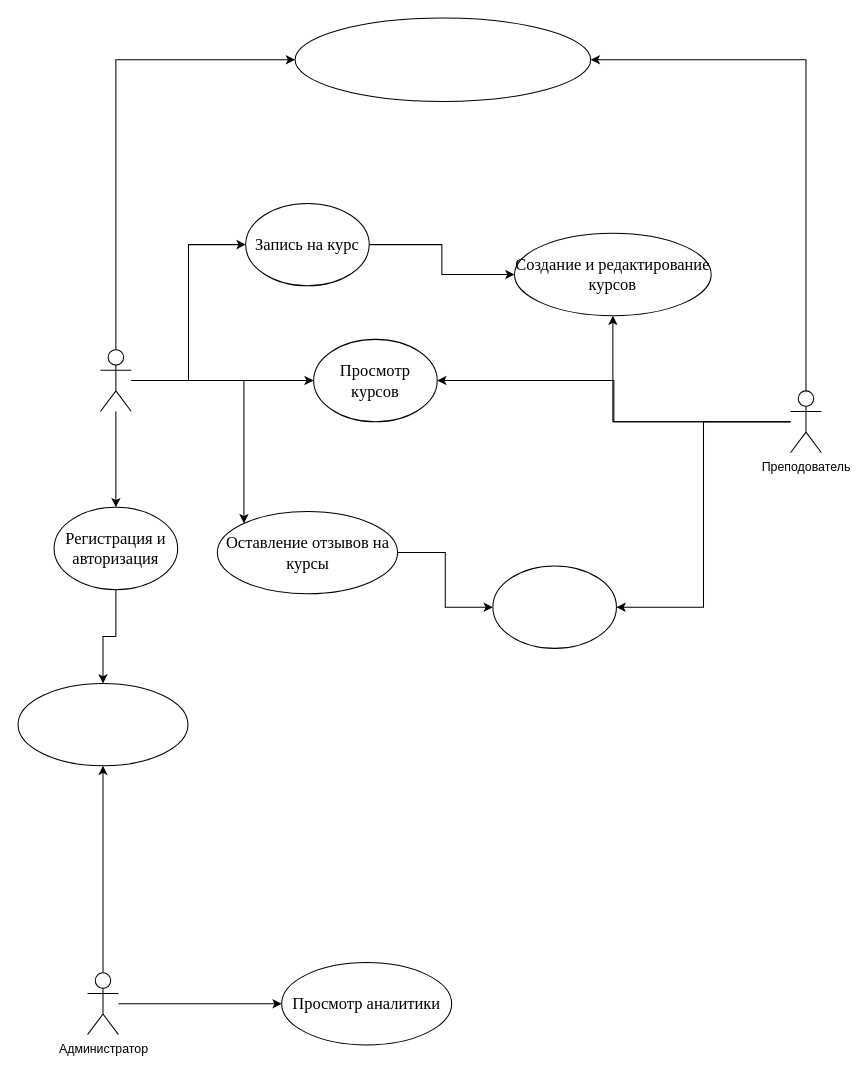
This 868x1074 diagram has some shape labels left out. Each missing label, with the centre of its shape:
Модерация отзывов: the point at 554,606
Прохождение тестов и отслеживание прогресса: the point at 442,59
Студент: the point at 115,380
Управление учетными записями: the point at 102,724
